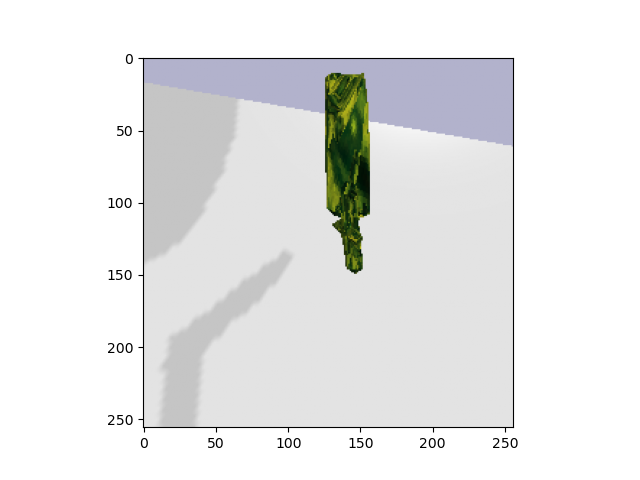v249b387_108: (312, 69, 390, 280)
